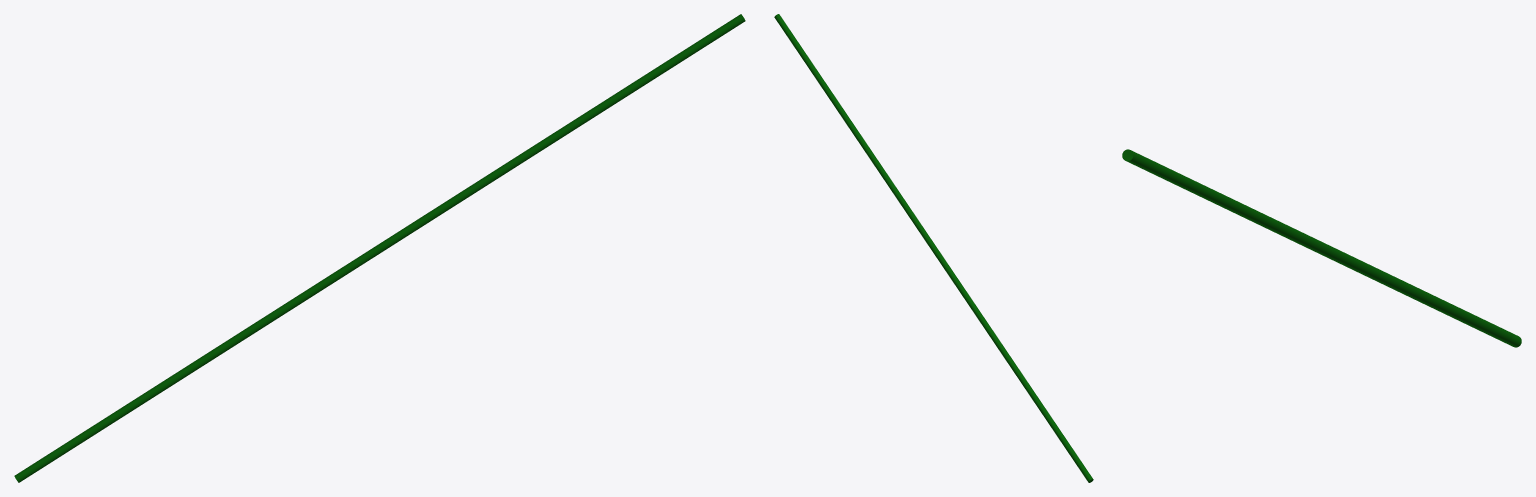
Rendered from Event_127732675_jet_1.fbx.
The picture shows the model from 3 angles, left to right: view 1: azimuth 30°, elevation 25°; view 2: azimuth 150°, elevation 25°; view 3: azimuth 270°, elevation 25°; orthographic projection. The views are drawn at different scales.
Parts seen in each view (by area): view 1: Model; view 2: Model; view 3: Model.
Part boxes in pixels (left/top/right/bottom): Model: left=14, top=14, right=745, bottom=482; Model: left=774, top=14, right=1093, bottom=482; Model: left=1122, top=149, right=1521, bottom=347.
Size of the model in its own units: 3.2 by 2.2 by 1.34.
